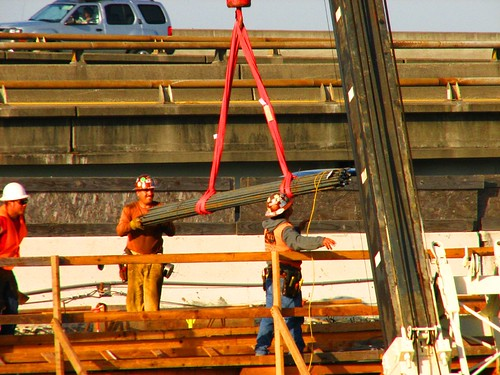person hardhat: (258, 190, 313, 353), (120, 173, 173, 322), (1, 174, 34, 338)
